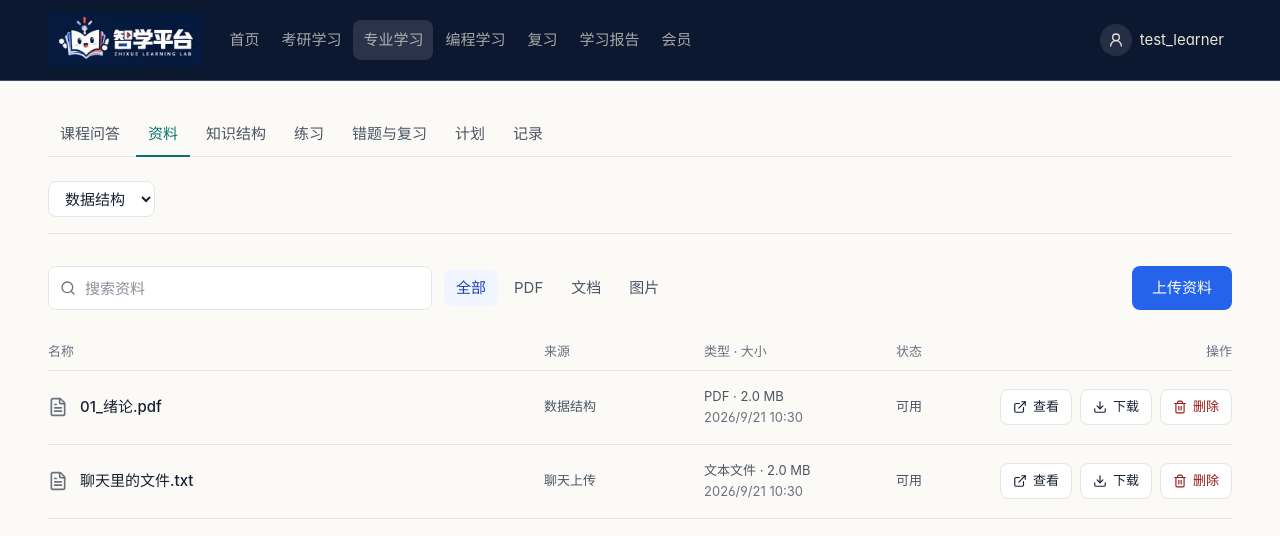
Test case: CourseMaterialsPage › searches every source, not just this course
The image size is (1280, 536).
Expected: the text "01_绪论.pdf" is shown, [80,396,162,418]
Type "聊天" into the field labelled "搜索资料".
click(240, 288); type("聊天")  # box [48,266,432,310]
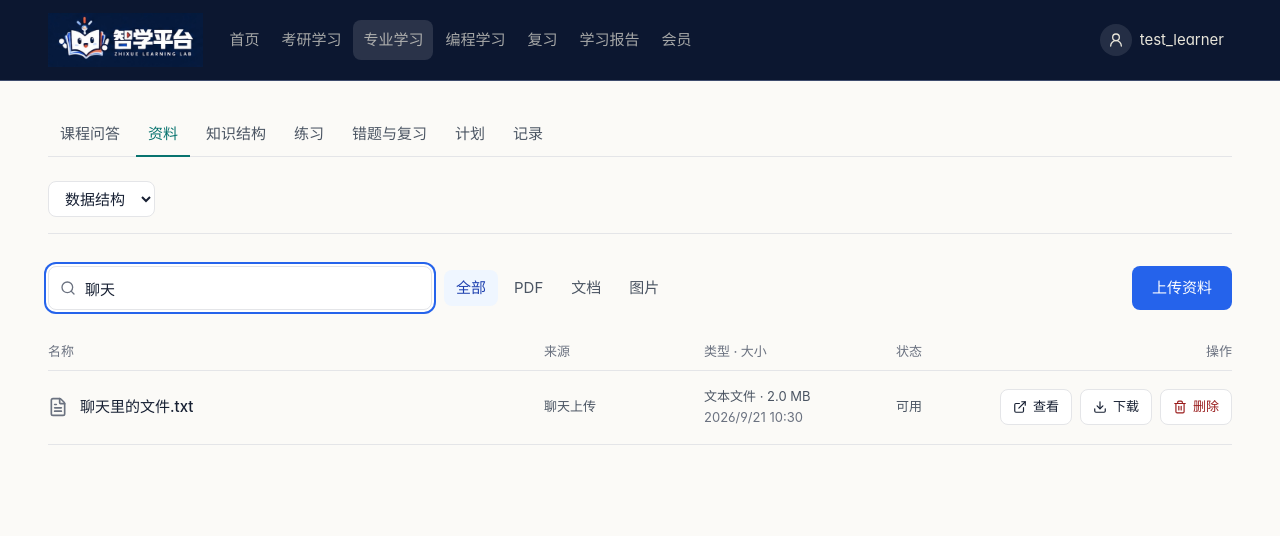
Expected: the text "聊天里的文件.txt" is shown, [80,396,193,418]
Now the text "01_绪论.pdf" is gone
Clear the field named "搜索资料" at (240, 288), box [48,266,432,310]
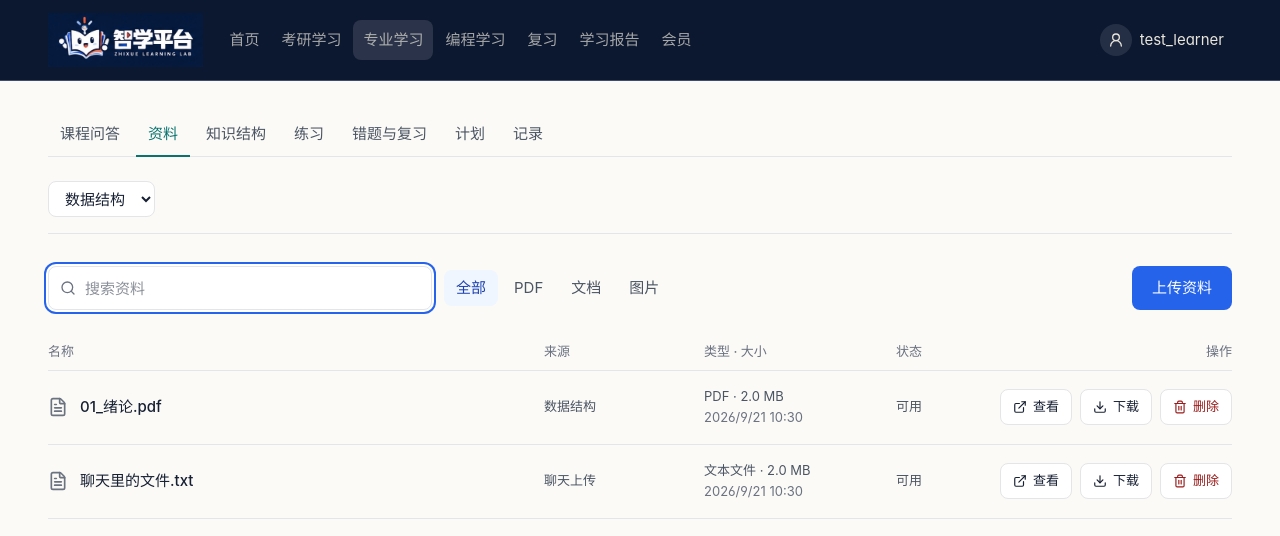
Now the text "01_绪论.pdf" is shown, box [80,396,162,418]
